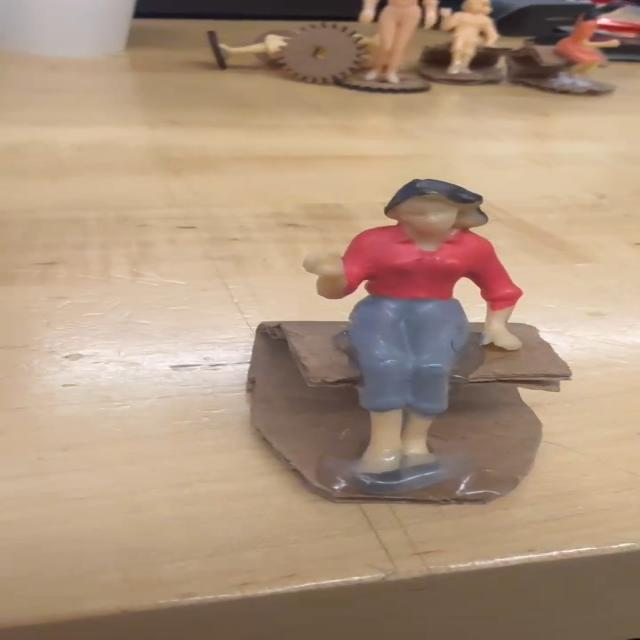Authorized: (296, 177, 529, 490)
